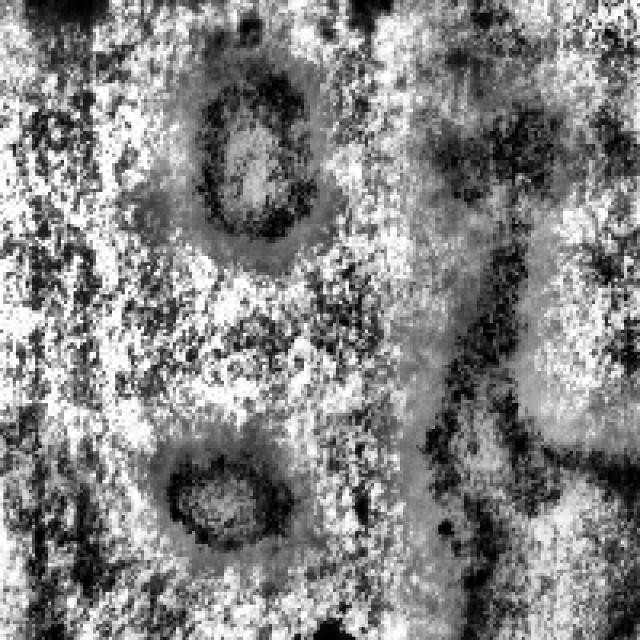Scratches: (419, 252, 637, 634), (182, 25, 317, 244), (419, 74, 576, 240), (150, 432, 304, 554)
